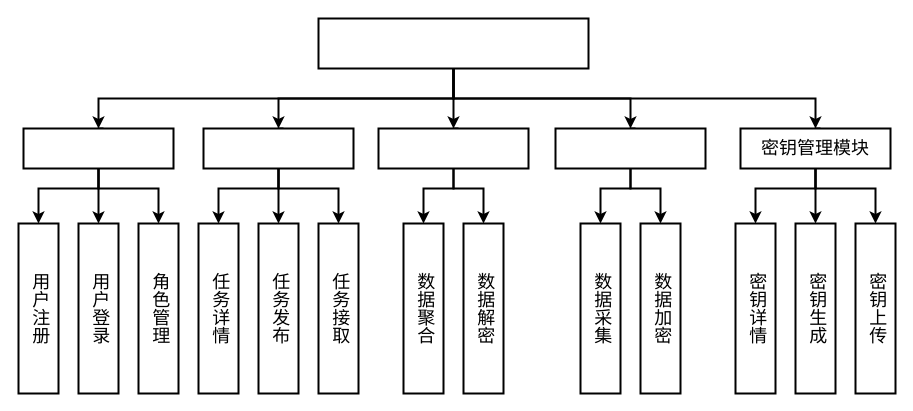
This 913x411 diagram has some shape labels left out. The centre of each missing label's shape, as x and y in pixels:
"任务管理模块" belongs at (x=278, y=148).
"任务请求者模块" belongs at (x=453, y=148).
"智能网联汽车数据聚合系统" belongs at (x=453, y=43).
"用户管理模块" belongs at (x=98, y=148).
"车辆模块" belongs at (x=630, y=148).
